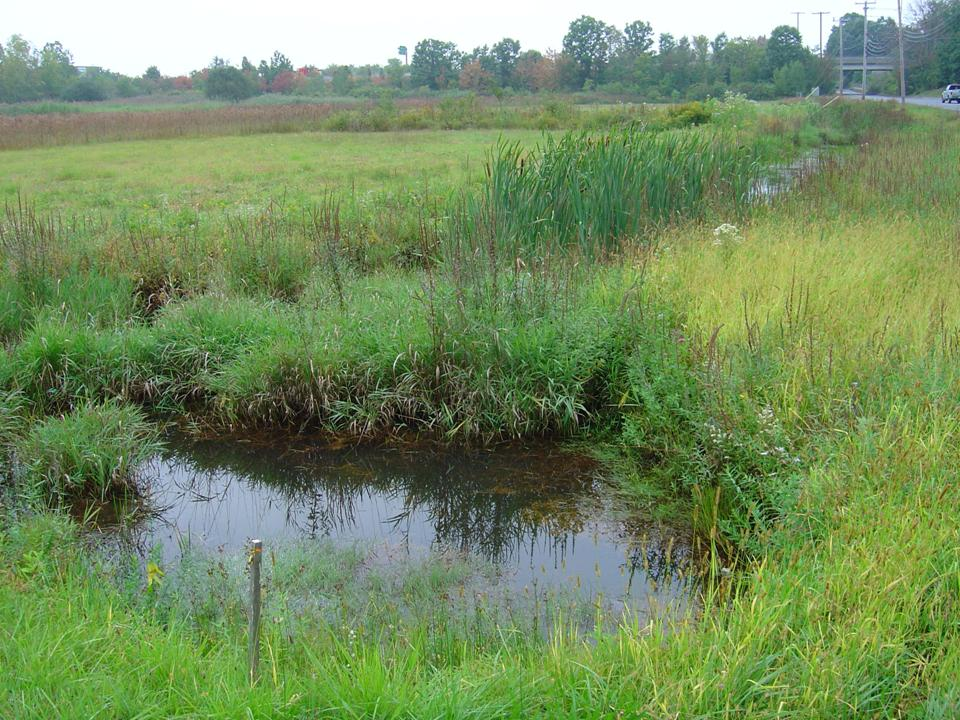cattails: (492, 130, 697, 230)
vegetation: (11, 142, 916, 297), (10, 601, 946, 720), (110, 234, 675, 417), (734, 156, 960, 605)
water: (49, 406, 728, 636)
